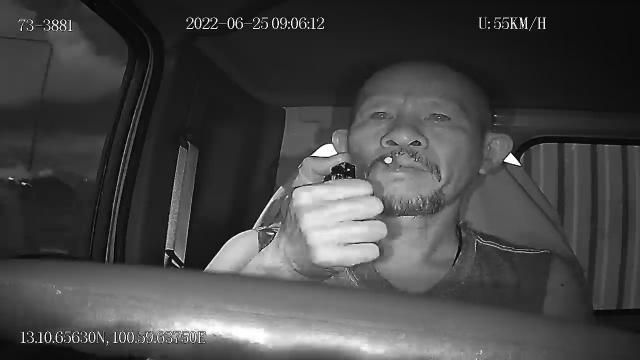SafeDriving: (418, 100, 460, 131), (362, 100, 399, 130)
Smoking: (383, 156, 401, 170)
